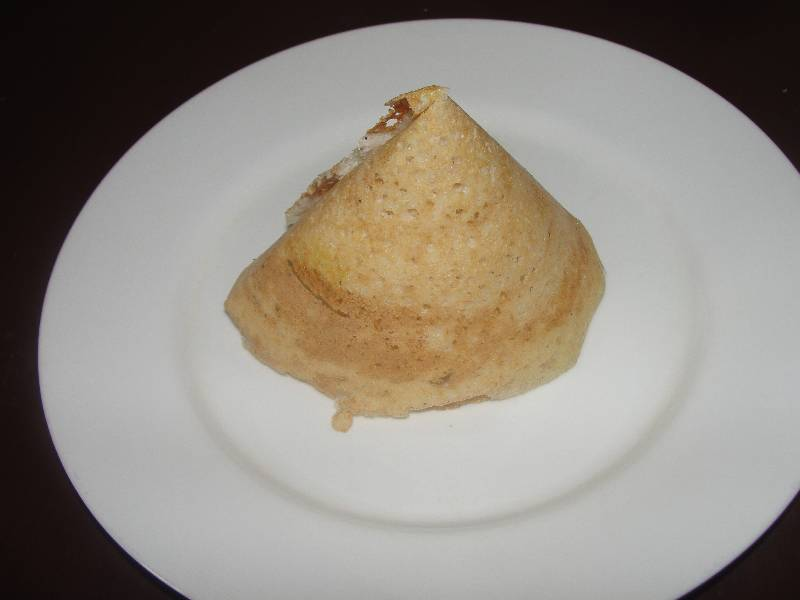dosa: (222, 81, 618, 440)
